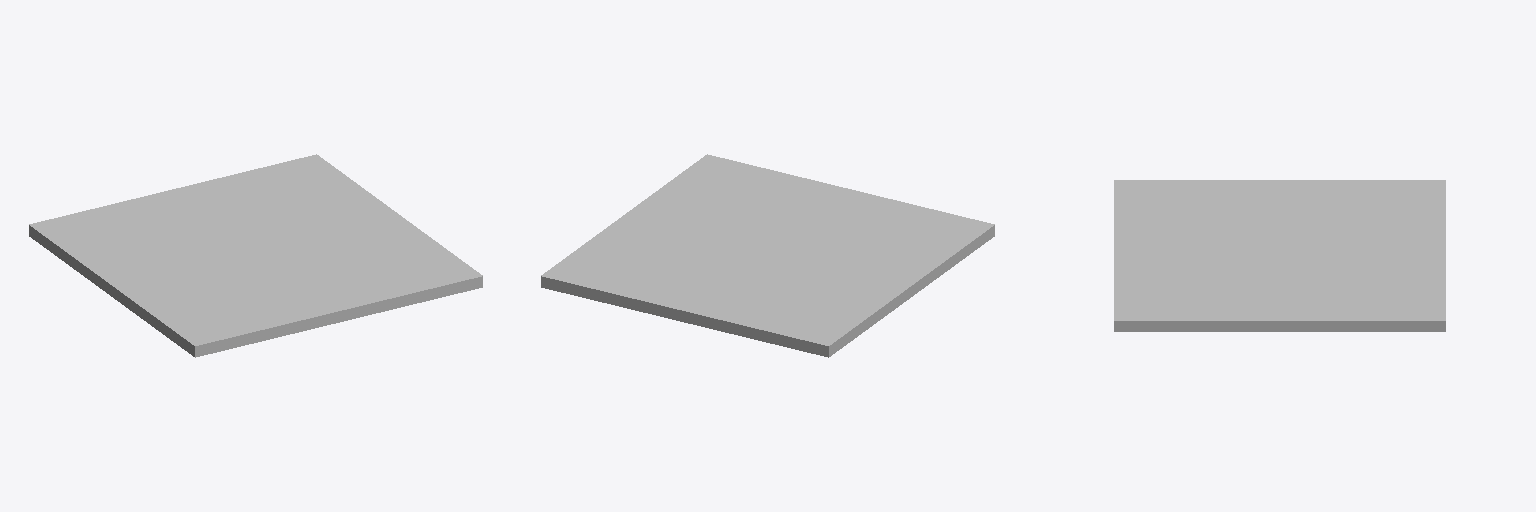
Rendered from Hazard_Floor_1.obj.
3 renders of one model, left to right at view 1: azimuth 30°, elevation 25°; view 2: azimuth 150°, elevation 25°; view 3: azimuth 270°, elevation 25°, orthographic.
Visible parts, largest first — view 1: Hazard_Floor_1; view 2: Hazard_Floor_1; view 3: Hazard_Floor_1.
Part boxes in pixels (bbox=[...]): Hazard_Floor_1: bbox=[29, 154, 482, 357]; Hazard_Floor_1: bbox=[541, 154, 994, 357]; Hazard_Floor_1: bbox=[1114, 180, 1445, 331].
Bounding box in the file's own units: 4 × 0.15 × 4.